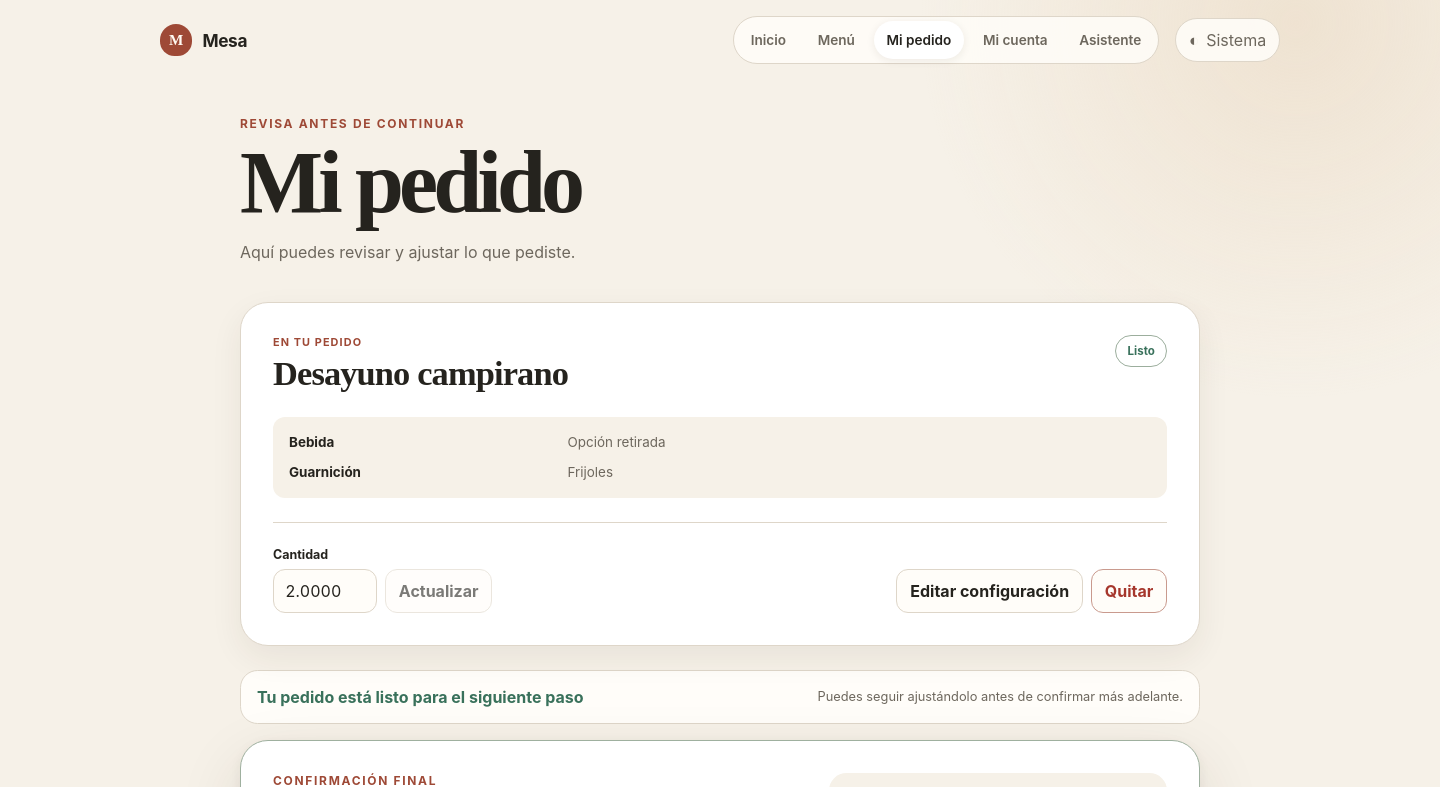
Scenario: draft review › does not treat an option removed from the current catalog as a valid initial selection
Click the button "Editar configuración": (990, 591) [896, 569, 1083, 613]
(page scrolled)
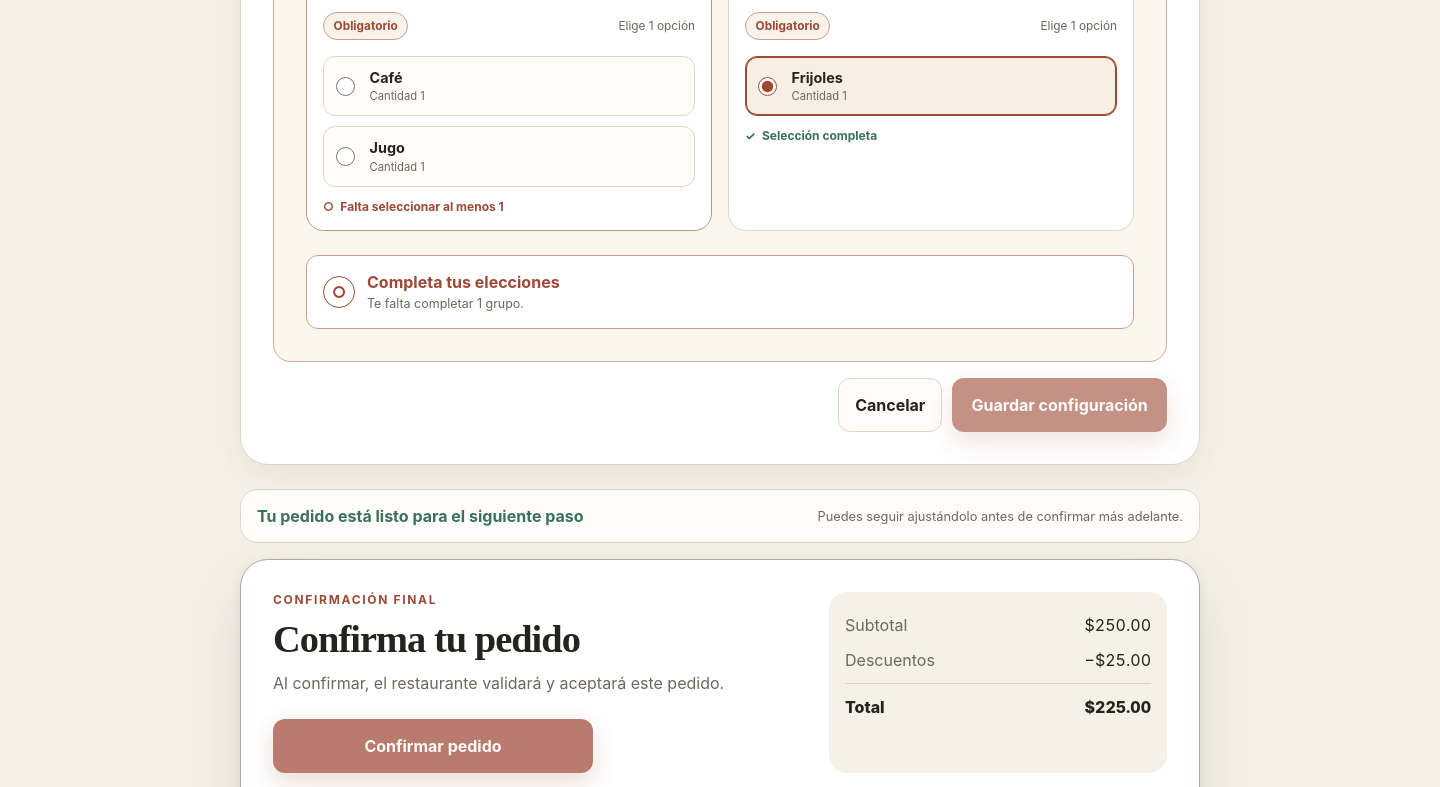
expect the radio button labelled "Café Cantidad 1" is not checked: met, box [336, 77, 355, 96]
expect the radio button labelled "Jugo Cantidad 1" is not checked: met, box [336, 147, 355, 166]
expect the button "Guardar configuración" is disabled: met, box [952, 378, 1167, 432]
